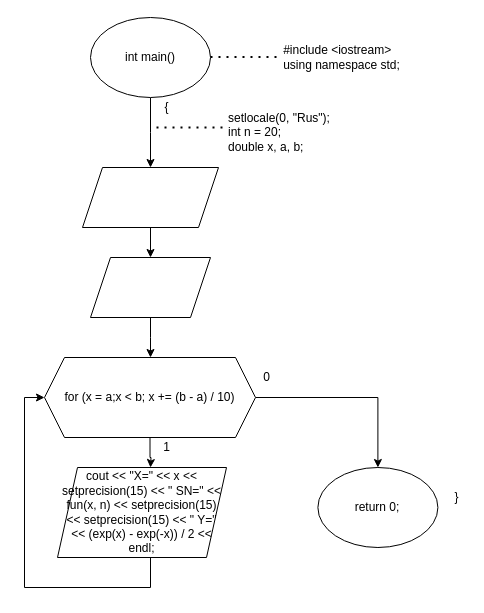
This 484x613 diagram has some shape labels left out. The shapes that lost their labels are listed below. From the top down, each one's box as (x1, y1, x2, y2) in pixels, then its label:
(82, 166, 218, 228): cout << "Введите границы a and b" << endl;
(90, 256, 210, 318): cin >> a >> b;
